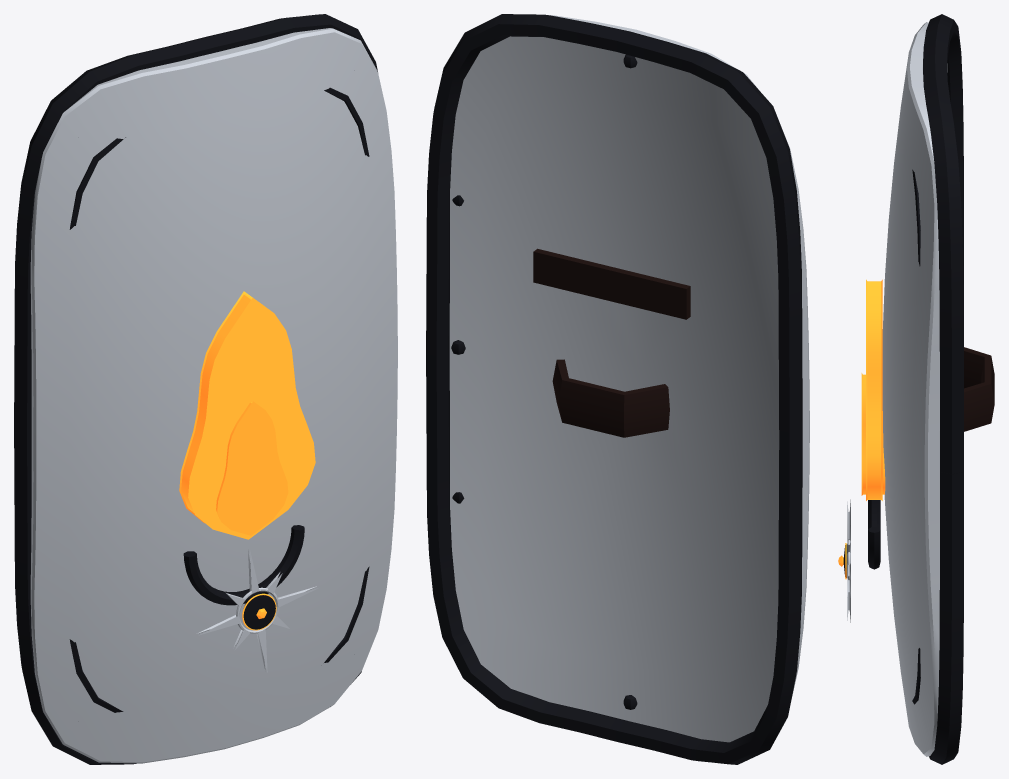
File: esc_ruinmarch_herald_shield.glb
The picture shows the model from 3 angles, left to right: view 1: azimuth 30°, elevation 25°; view 2: azimuth 150°, elevation 25°; view 3: azimuth 270°, elevation 25°; orthographic projection. The views are drawn at different scales.
Visible parts, largest first — view 1: esc_ruinmarch_herald_shield; view 2: esc_ruinmarch_herald_shield; view 3: esc_ruinmarch_herald_shield.
Part boxes in pixels (x1=…): esc_ruinmarch_herald_shield: x1=14, y1=14, x2=397, y2=764; esc_ruinmarch_herald_shield: x1=426, y1=14, x2=809, y2=764; esc_ruinmarch_herald_shield: x1=838, y1=14, x2=994, y2=764.
Bounding box in the file's own units: 0.636 × 1.16 × 0.2478.
